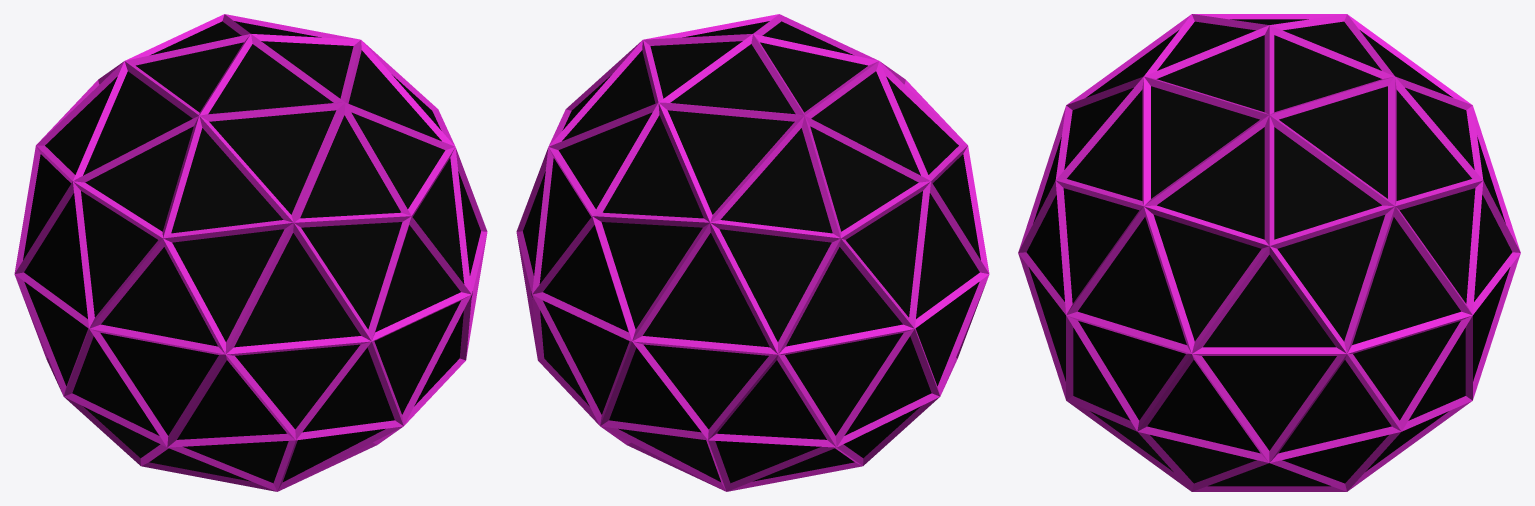
The picture shows the model from 3 angles, left to right: view 1: azimuth 30°, elevation 25°; view 2: azimuth 150°, elevation 25°; view 3: azimuth 270°, elevation 25°; orthographic projection. The views are drawn at different scales.
Visible parts, largest first — view 1: Icosphere, Icosphere.001; view 2: Icosphere, Icosphere.001; view 3: Icosphere, Icosphere.001.
Boxes of the visible parts, left/top/right/bottom form: Icosphere: left=23, top=21, right=480, bottom=483; Icosphere.001: left=14, top=14, right=487, bottom=491; Icosphere: left=523, top=21, right=980, bottom=483; Icosphere.001: left=516, top=14, right=989, bottom=491; Icosphere: left=1026, top=19, right=1512, bottom=486; Icosphere.001: left=1018, top=14, right=1520, bottom=491.
Bounding box in the file's own units: 194 × 204 × 204.
